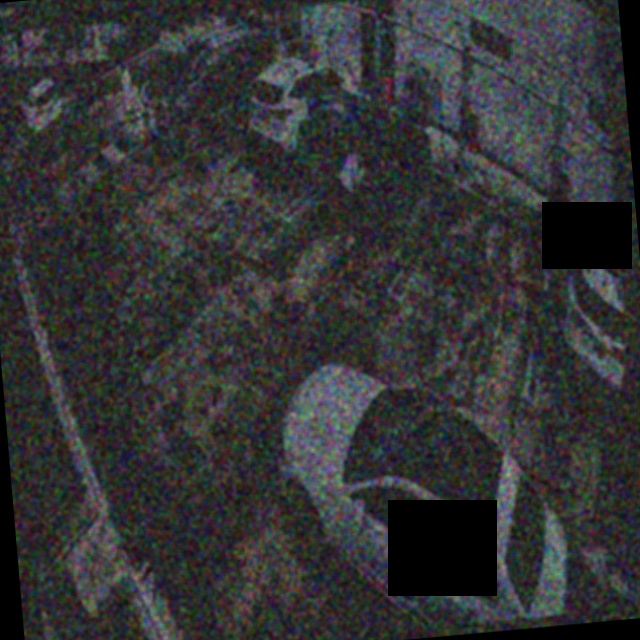Car: (268, 345, 571, 640), (316, 86, 438, 232), (245, 48, 368, 165)
